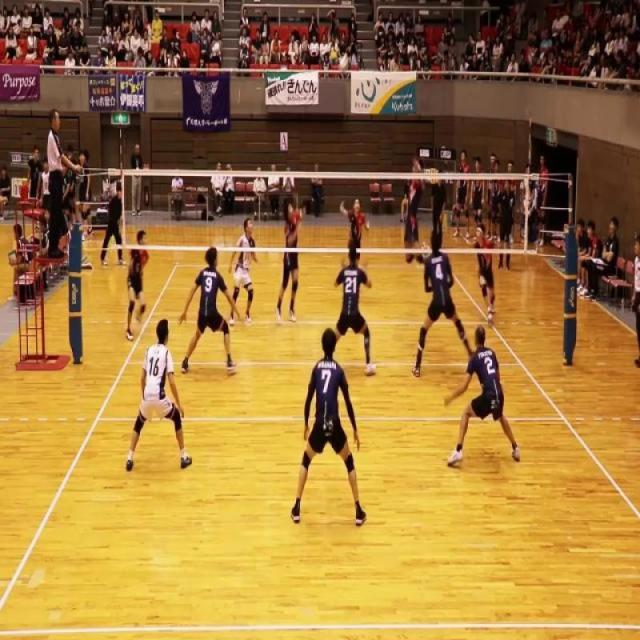volleyball: (338, 51, 349, 73)
